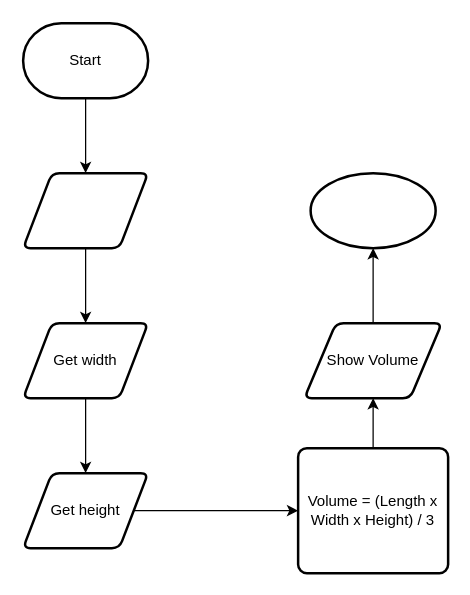
Some shapes in this 470 by 595 pixel diagram are drawn without their labels. Here are the shapes that lost their labels. From the top down, the centre of each, then its label:
(x=85, y=210): Get length
(x=372, y=210): Stop
